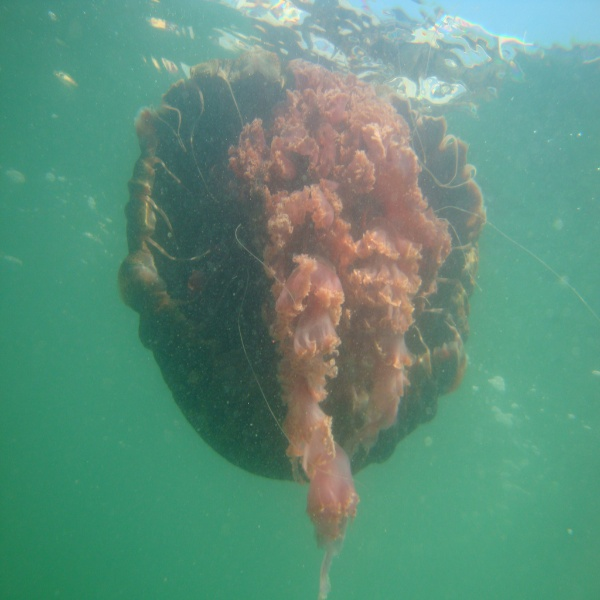Jellyfish: (117, 43, 489, 599)
